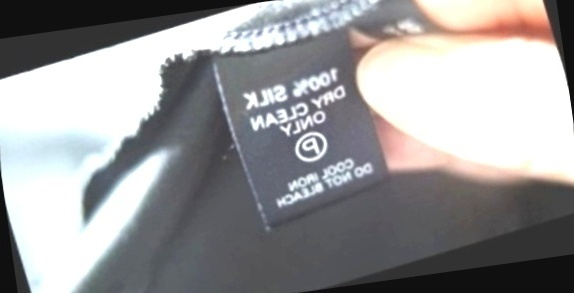dry_clean_any_solvent_except_trichloroethylene: (282, 120, 338, 173)
